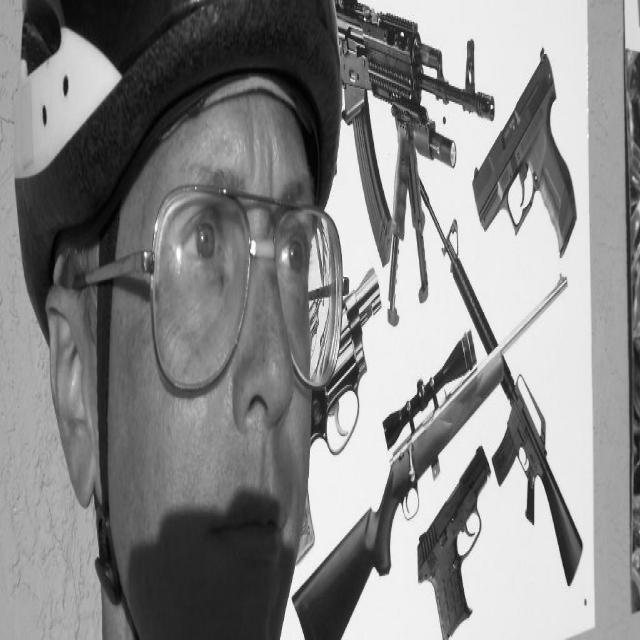weapon: (290, 264, 569, 639), (416, 167, 586, 596), (322, 0, 510, 267)
